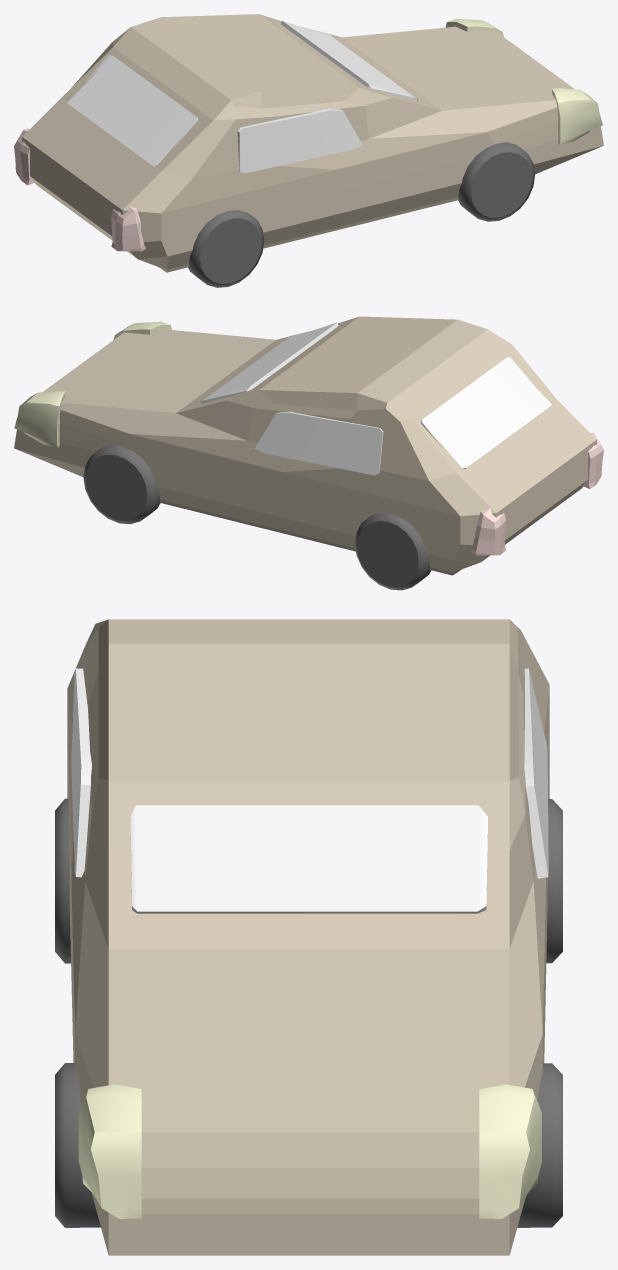
The model's file is CarroVeige.fbx.
3 renders of one model, top to bottom at view 1: azimuth 30°, elevation 25°; view 2: azimuth 150°, elevation 25°; view 3: azimuth 270°, elevation 25°, orthographic. The views are drawn at different scales.
Visible parts, largest first — view 1: pCube1, pCube10, pCube8, pCylinder1, pCylinder2, pCube9, pCube6, pCube11; view 2: pCube1, pCube10, pCube12, pCylinder3, pCylinder4, pCube9, pCube6, pCube11; view 3: pCube1, pCube6, pCube9, pCylinder1, pCylinder3, pCube12, pCube8, pCylinder4, pCylinder2.
Part boxes in pixels (x1,y1,x2,y2): pCube1: [22, 14, 603, 272]; pCube10: [67, 55, 197, 166]; pCube8: [237, 108, 362, 173]; pCylinder1: [458, 142, 534, 221]; pCylinder2: [188, 210, 264, 287]; pCube9: [445, 18, 602, 144]; pCube6: [281, 20, 417, 101]; pCube11: [14, 128, 145, 251]; pCube1: [14, 316, 596, 575]; pCube10: [421, 357, 552, 468]; pCube12: [254, 411, 383, 475]; pCylinder3: [83, 445, 160, 524]; pCylinder4: [355, 513, 431, 590]; pCube9: [14, 321, 171, 447]; pCube6: [200, 322, 338, 403]; pCube11: [471, 433, 603, 555]; pCube1: [67, 619, 549, 1255]; pCube6: [130, 805, 488, 913]; pCube9: [78, 1084, 541, 1218]; pCylinder1: [55, 1063, 100, 1227]; pCylinder3: [517, 1063, 562, 1227]; pCube12: [524, 668, 548, 878]; pCube8: [71, 668, 91, 877]; pCylinder4: [546, 799, 562, 963]; pCylinder2: [55, 798, 70, 963].
Bounding box in the file's own units: 24.46 × 8.56 × 11.09.
